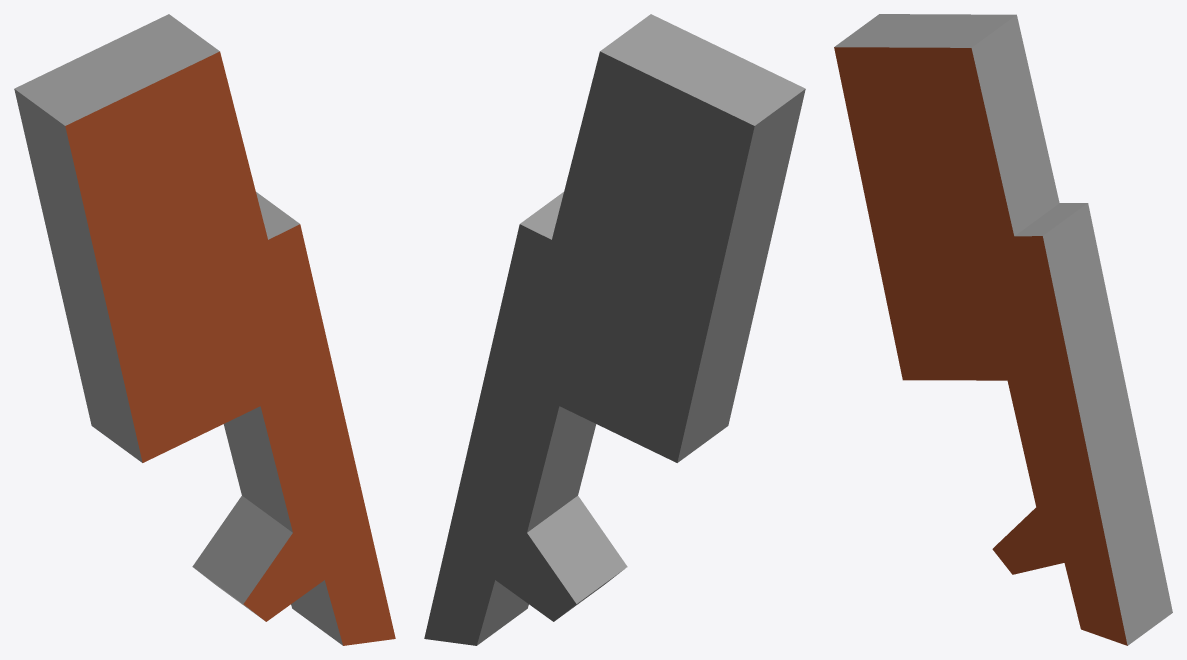
File: construction_6993_assumed_A_Casa_h6m.obj
3 renders of one model, left to right at view 1: azimuth 30°, elevation 25°; view 2: azimuth 150°, elevation 25°; view 3: azimuth 330°, elevation 25°, orthographic. The views are drawn at different scales.
Parts seen in each view (by area): view 1: construction_6993_assumed_A_Casa; view 2: construction_6993_assumed_A_Casa; view 3: construction_6993_assumed_A_Casa.
Boxes of the visible parts, box(x1,y1,x2,y2) form: construction_6993_assumed_A_Casa: box(14, 14, 395, 645); construction_6993_assumed_A_Casa: box(424, 14, 805, 645); construction_6993_assumed_A_Casa: box(834, 14, 1172, 645).
Bounding box in the file's own units: 22.42 × 40.87 × 6.
